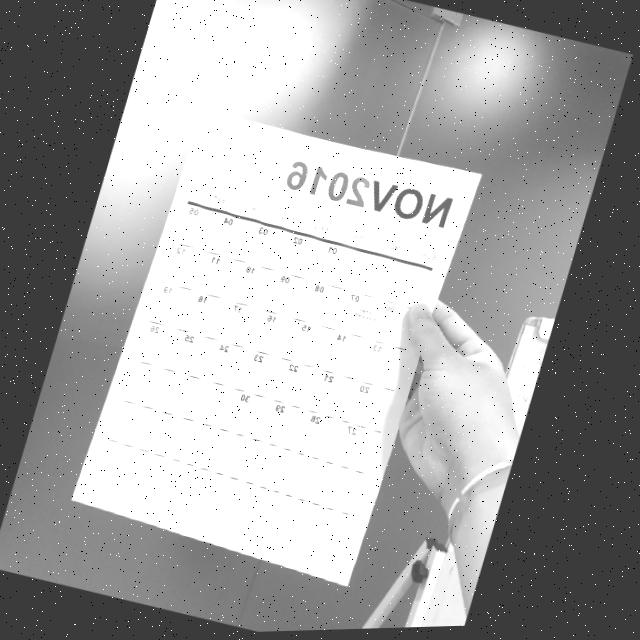document: (71, 108, 481, 586)
